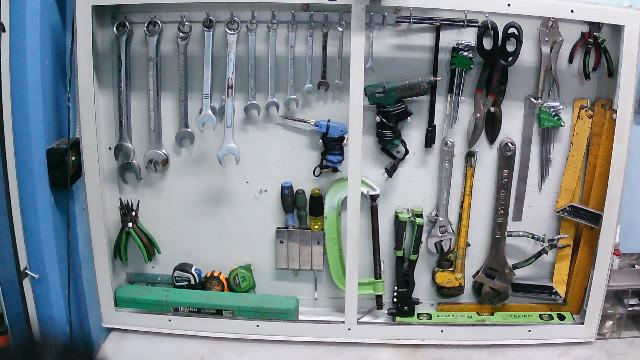tang_kombinasi: (506, 230, 573, 269)
